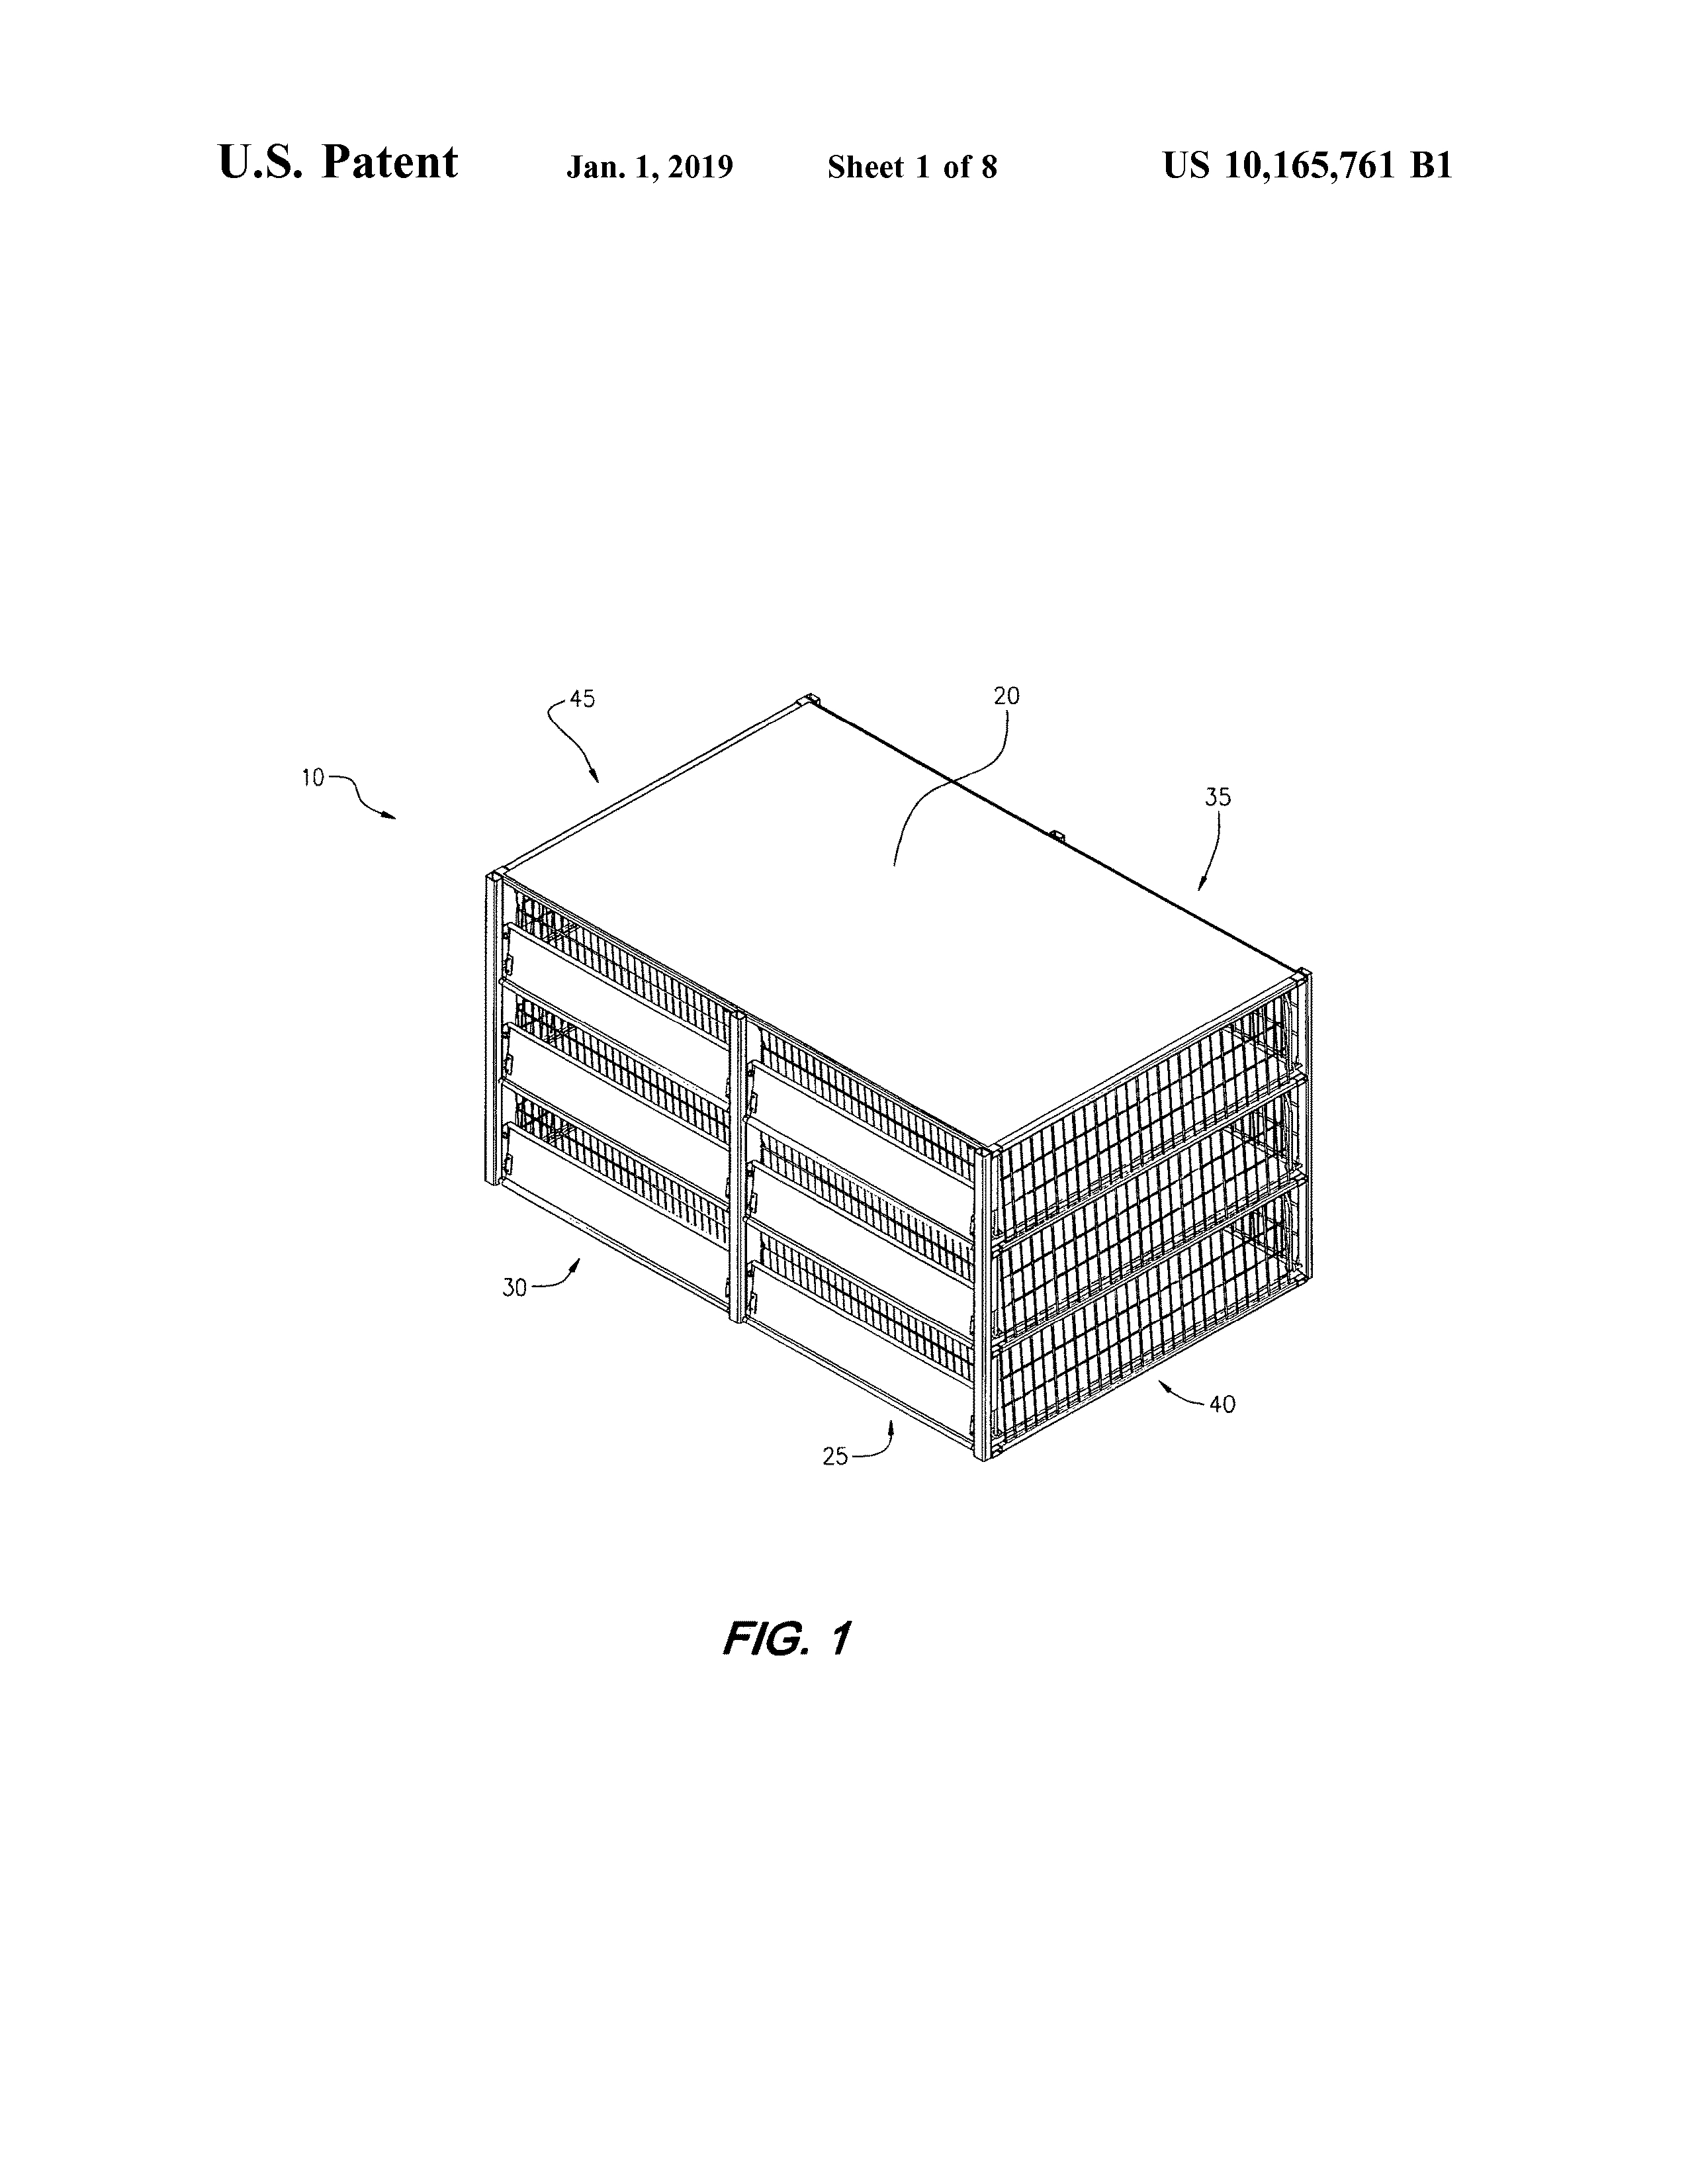patent image: (264, 606, 1364, 1660)
